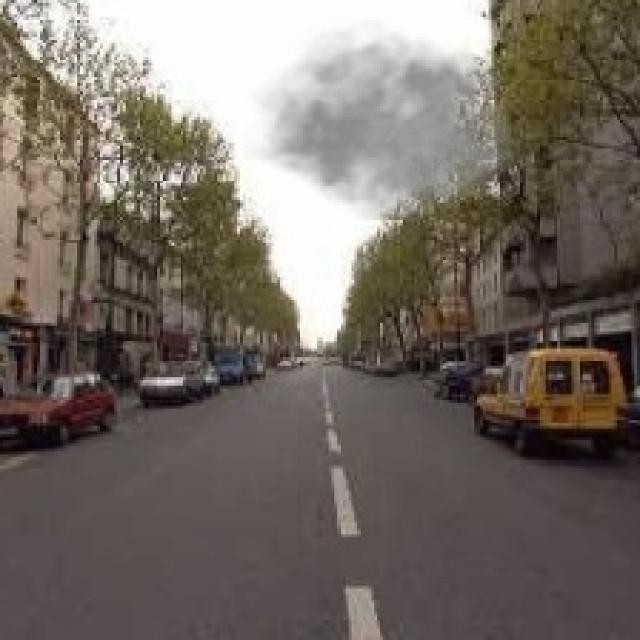Smoke: (243, 17, 526, 223)
